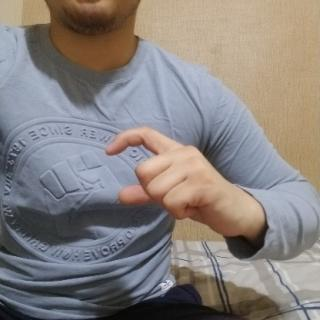DELL: (102, 124, 254, 249)
